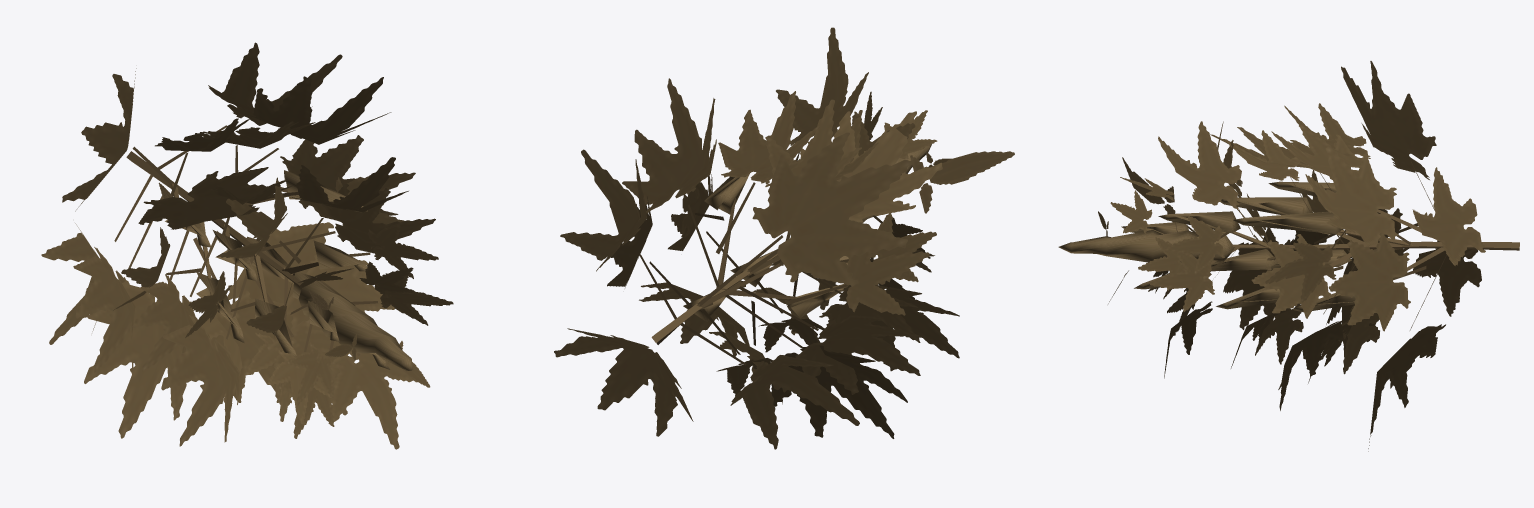
The model's file is p_hybrid_flowering_c3_cards.obj.
The picture shows the model from 3 angles, left to right: view 1: azimuth 30°, elevation 25°; view 2: azimuth 150°, elevation 25°; view 3: azimuth 270°, elevation 25°; orthographic projection. The views are drawn at different scales.
Bounding box in the file's own units: 1.39 × 1.35 × 1.5.
1 material, 1 textured.
